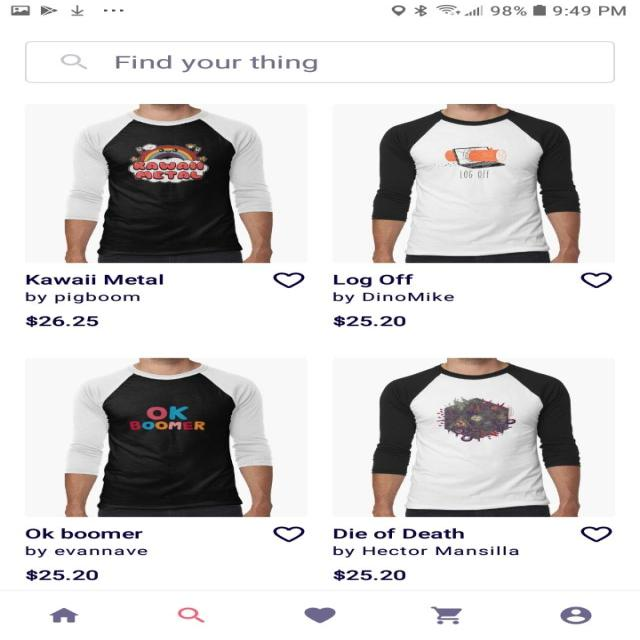EditText: (24, 41, 614, 83)
Icon: (560, 606, 592, 624), (431, 606, 462, 624), (304, 606, 336, 623), (580, 526, 612, 542), (273, 272, 305, 288), (273, 526, 305, 541), (580, 273, 612, 288), (60, 54, 88, 70), (177, 606, 204, 622), (48, 608, 78, 622)
Image: (25, 104, 308, 263), (25, 358, 307, 517), (332, 358, 614, 517), (332, 104, 614, 263)
Text: (333, 527, 519, 558), (25, 274, 163, 304), (24, 527, 148, 558), (332, 274, 454, 304), (115, 55, 318, 73), (332, 568, 406, 580), (25, 569, 98, 581), (26, 315, 98, 327), (332, 316, 406, 326)
